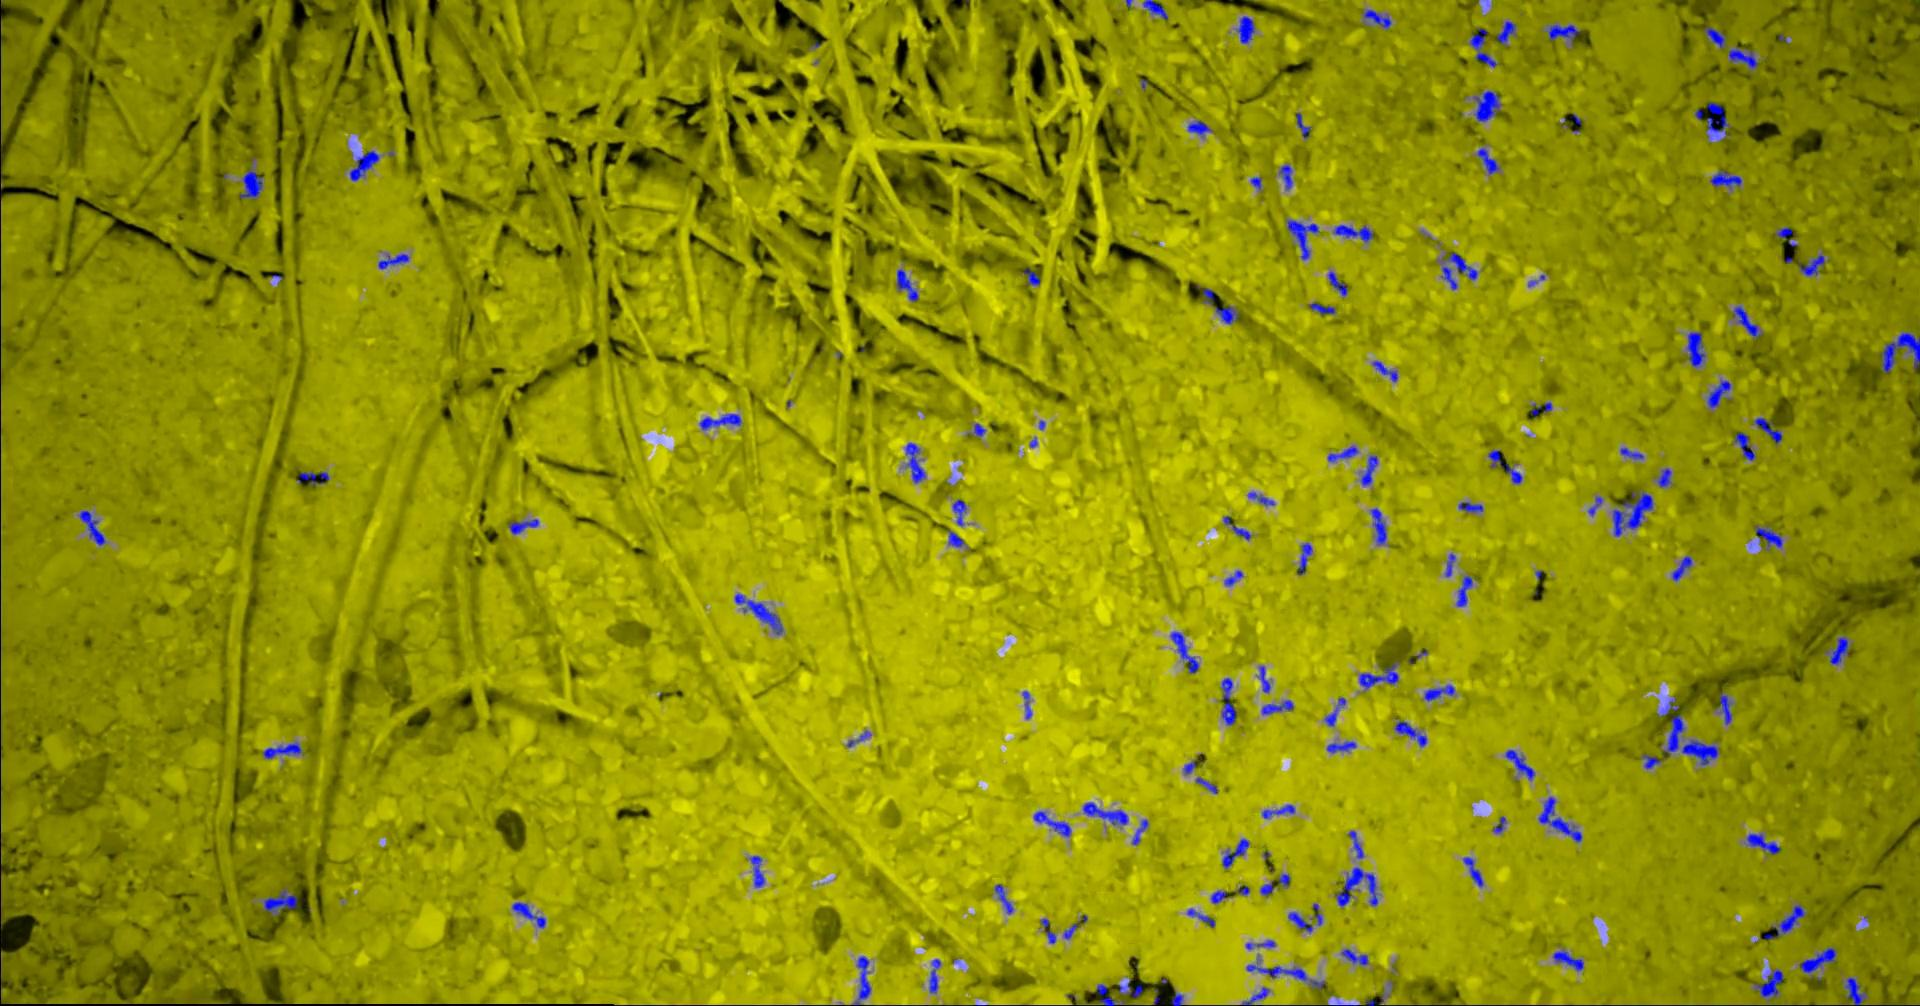ant: (1663, 713, 1718, 765), (1246, 963, 1324, 989), (1537, 796, 1581, 842), (734, 593, 782, 634), (1611, 492, 1652, 536), (1335, 866, 1380, 906), (1879, 332, 1919, 373), (1763, 904, 1804, 937), (1441, 251, 1477, 290), (1286, 218, 1318, 259), (1487, 448, 1521, 483), (1170, 631, 1197, 673), (1359, 661, 1398, 688), (1469, 28, 1496, 67), (1082, 801, 1128, 824), (1732, 305, 1763, 338), (1032, 810, 1070, 836), (510, 901, 545, 929), (79, 511, 105, 545), (263, 888, 297, 915), (349, 150, 378, 180), (1705, 102, 1731, 136), (1801, 948, 1835, 973), (1505, 749, 1534, 779), (1754, 969, 1783, 997), (1473, 90, 1500, 121), (1394, 720, 1426, 746), (853, 956, 870, 1005), (1222, 838, 1248, 868), (1333, 224, 1373, 243), (905, 442, 924, 481), (1754, 417, 1782, 443), (237, 169, 262, 199), (897, 268, 918, 301), (698, 413, 742, 429), (1746, 833, 1779, 854), (1462, 856, 1483, 887), (1222, 677, 1236, 724), (262, 742, 301, 758), (1552, 950, 1583, 970), (1223, 514, 1250, 539), (1755, 525, 1782, 549), (1688, 332, 1705, 367), (1728, 47, 1757, 69), (1844, 976, 1865, 1005), (1545, 24, 1580, 42), (1707, 380, 1730, 406), (1324, 697, 1345, 727), (1476, 147, 1498, 173), (994, 883, 1013, 913), (1797, 254, 1823, 276), (1096, 983, 1123, 1005), (1735, 432, 1755, 460), (1370, 507, 1385, 544), (1371, 359, 1397, 381), (1423, 683, 1454, 701), (1363, 9, 1390, 28), (1236, 15, 1255, 43), (1829, 636, 1848, 664), (1186, 908, 1214, 927), (1241, 986, 1269, 1005), (1710, 169, 1741, 185), (377, 253, 408, 269), (1360, 455, 1377, 485), (1703, 25, 1724, 48), (1143, 0, 1167, 20), (1288, 911, 1312, 931), (1297, 542, 1312, 574), (1672, 555, 1691, 580), (1261, 699, 1293, 714), (749, 855, 764, 887), (1341, 948, 1368, 965), (1327, 446, 1357, 461), (508, 518, 538, 533), (1457, 575, 1472, 606), (1261, 804, 1294, 818), (1328, 271, 1347, 295), (1214, 305, 1239, 323), (296, 471, 328, 485), (1496, 22, 1515, 44), (1117, 979, 1142, 997), (1347, 829, 1363, 857), (1718, 691, 1731, 724), (1777, 226, 1797, 246), (1657, 696, 1677, 716), (1295, 112, 1310, 138), (1131, 819, 1148, 843), (1187, 119, 1210, 136), (1247, 492, 1274, 506), (846, 730, 870, 746), (1040, 918, 1055, 942), (930, 958, 940, 993), (1195, 776, 1217, 793), (952, 499, 966, 525), (1326, 741, 1355, 752), (1279, 164, 1291, 189), (1022, 267, 1040, 285), (1587, 495, 1603, 516), (1244, 939, 1275, 949), (1258, 666, 1270, 692), (1309, 302, 1335, 314), (1641, 753, 1660, 768), (1530, 401, 1550, 415), (1458, 500, 1482, 512), (947, 528, 963, 546), (1224, 570, 1242, 586), (1657, 467, 1671, 486), (1620, 447, 1643, 459), (1063, 922, 1078, 939), (1492, 815, 1506, 833), (1022, 691, 1031, 718), (1445, 553, 1455, 575), (1210, 890, 1228, 903), (1260, 882, 1275, 895), (1171, 989, 1183, 1005), (1203, 287, 1214, 304), (1277, 873, 1290, 887)
